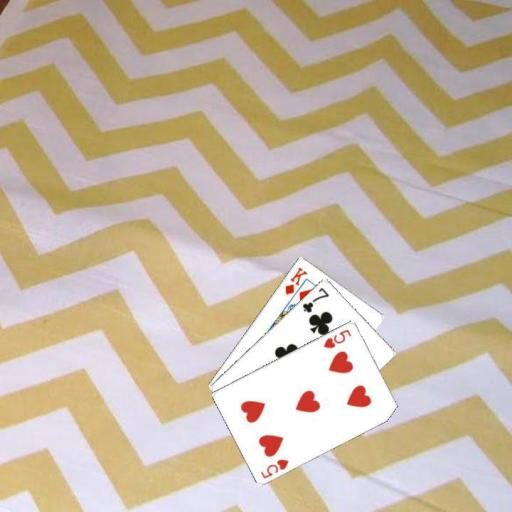5H: (258, 455, 290, 480), (320, 326, 353, 350)
7C: (299, 284, 331, 314)
KD: (282, 264, 309, 296)
